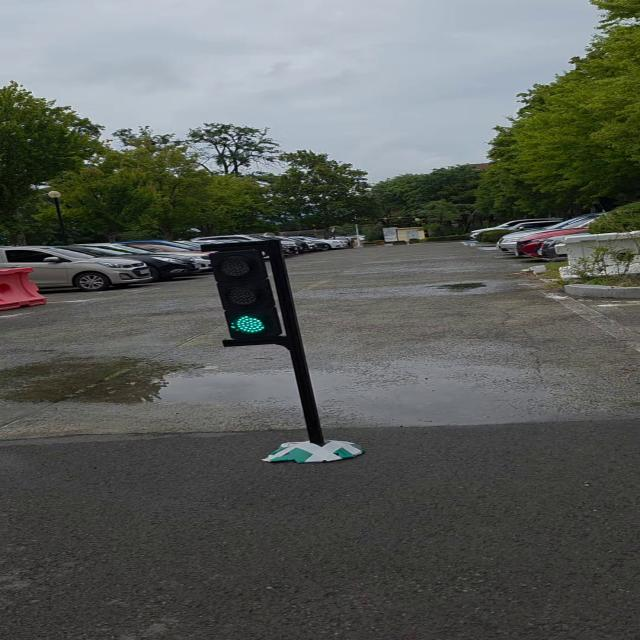green: (206, 245, 289, 344)
